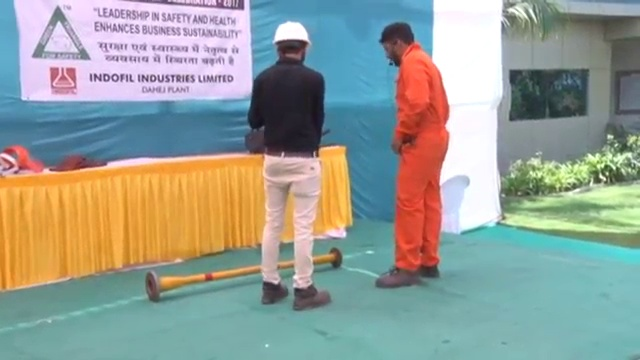helmet: (271, 21, 312, 48)
helmet_off: (377, 21, 420, 69)
helmet_on: (268, 21, 314, 65)
person: (242, 20, 336, 312), (375, 19, 441, 288)
